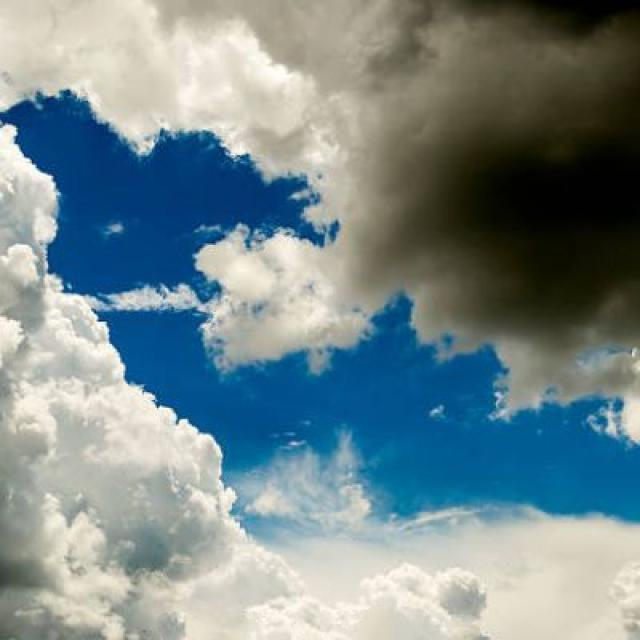nimbostratus: (359, 0, 640, 325)
